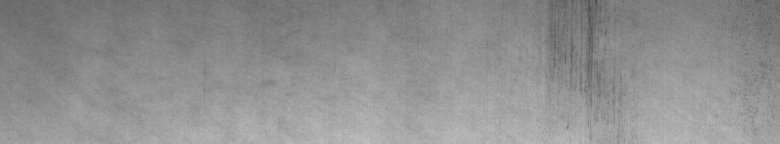ka: (550, 4, 621, 107)
